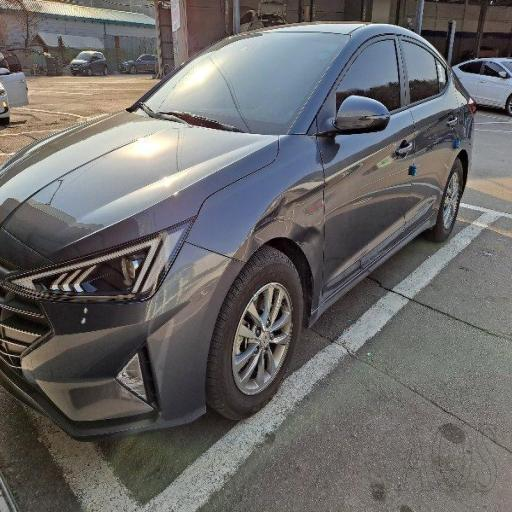dent: (242, 164, 344, 298)
